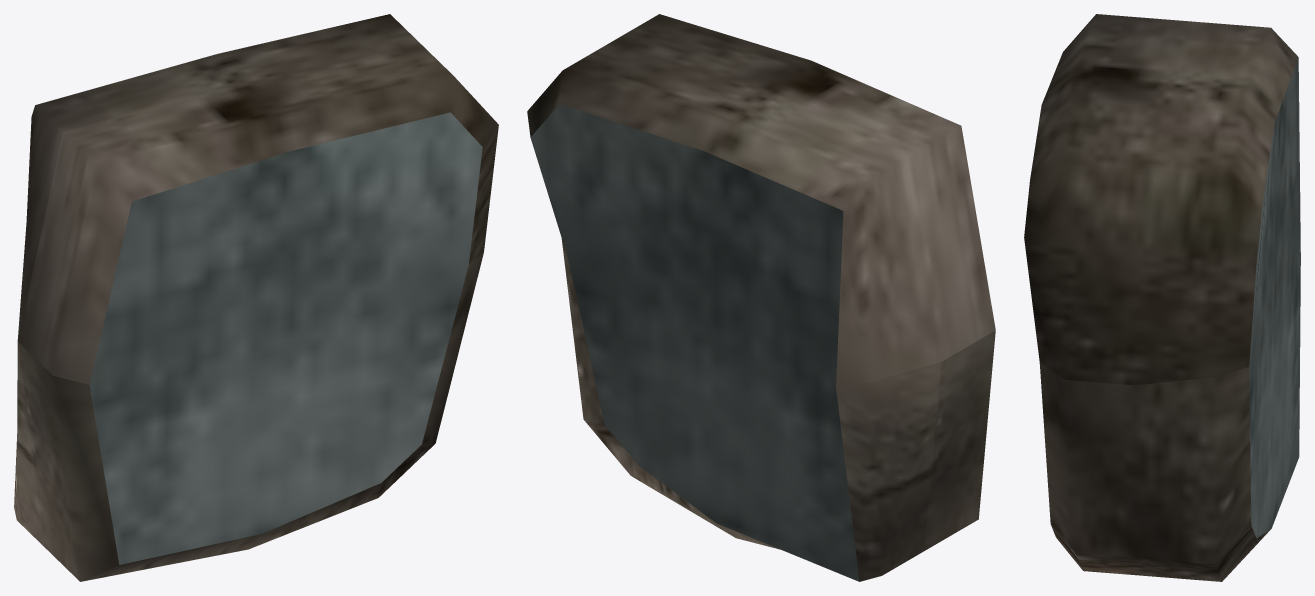
Rendered from gully_bridge_debris_sm03.glb.
3 renders of one model, left to right at view 1: azimuth 30°, elevation 25°; view 2: azimuth 150°, elevation 25°; view 3: azimuth 270°, elevation 25°, orthographic. The views are drawn at different scales.
Bounding box in the file's own units: 18.78 × 18.34 × 9.72.
2 materials, 2 textured.
